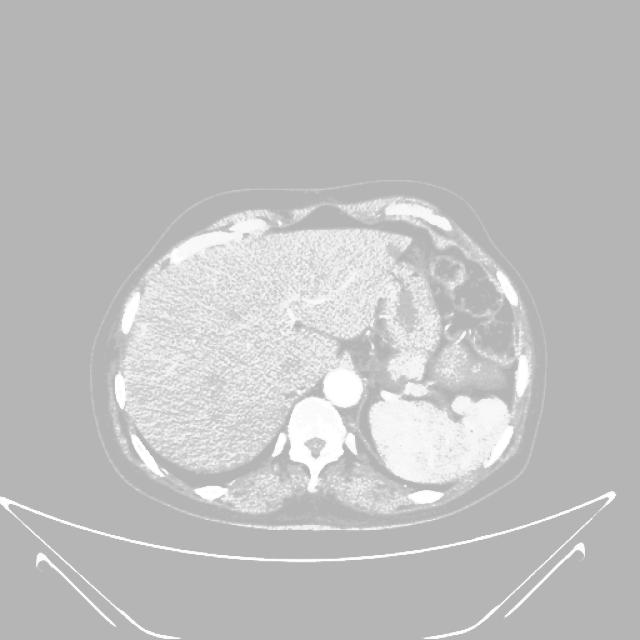TUMOR: (280, 266, 591, 529)
